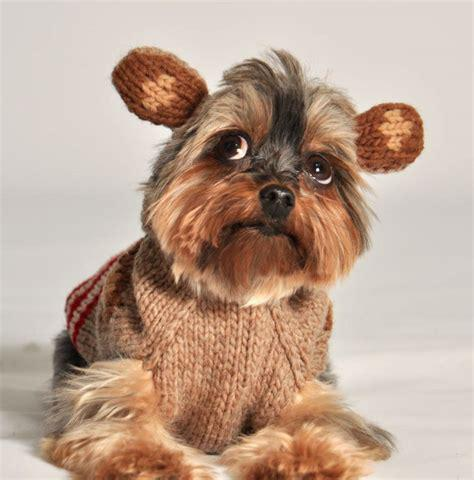dog: (46, 47, 423, 480)
